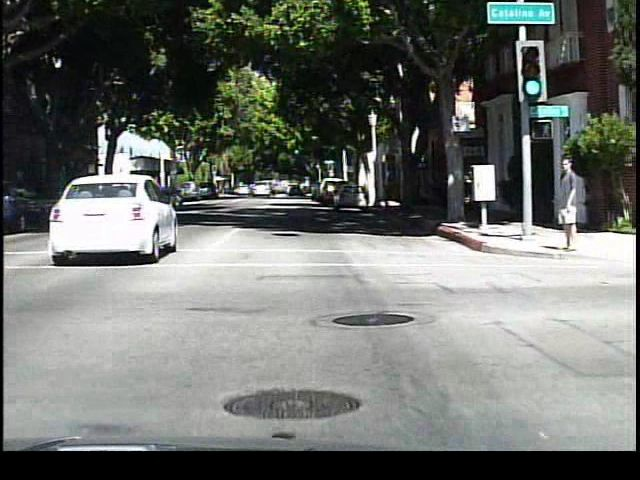person: (547, 151, 579, 255)
